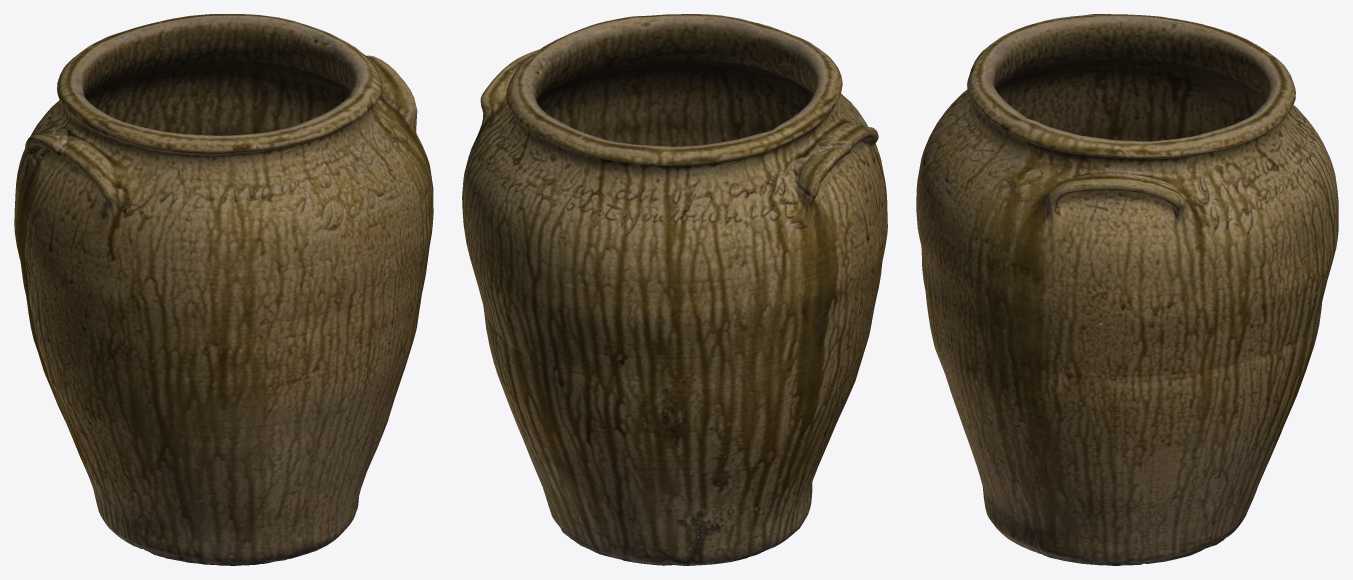
File: si-jar-made-by-dave.glb
The picture shows the model from 3 angles, left to right: view 1: azimuth 30°, elevation 25°; view 2: azimuth 150°, elevation 25°; view 3: azimuth 270°, elevation 25°; orthographic projection.
Visible parts, largest first — view 1: sourced_fit; view 2: sourced_fit; view 3: sourced_fit.
Part boxes in pixels (x1,y1,x2,y2): sourced_fit: [14, 14, 433, 565]; sourced_fit: [462, 14, 887, 565]; sourced_fit: [916, 14, 1338, 565].
Bounding box in the file's own units: 0.4603 × 0.5248 × 0.4588.
Materials: 1 (1 with a texture image).
